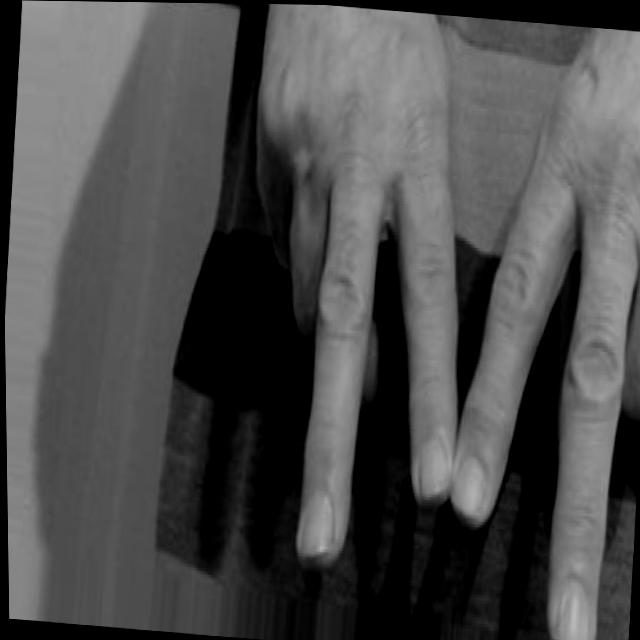M: (219, 3, 640, 640)
